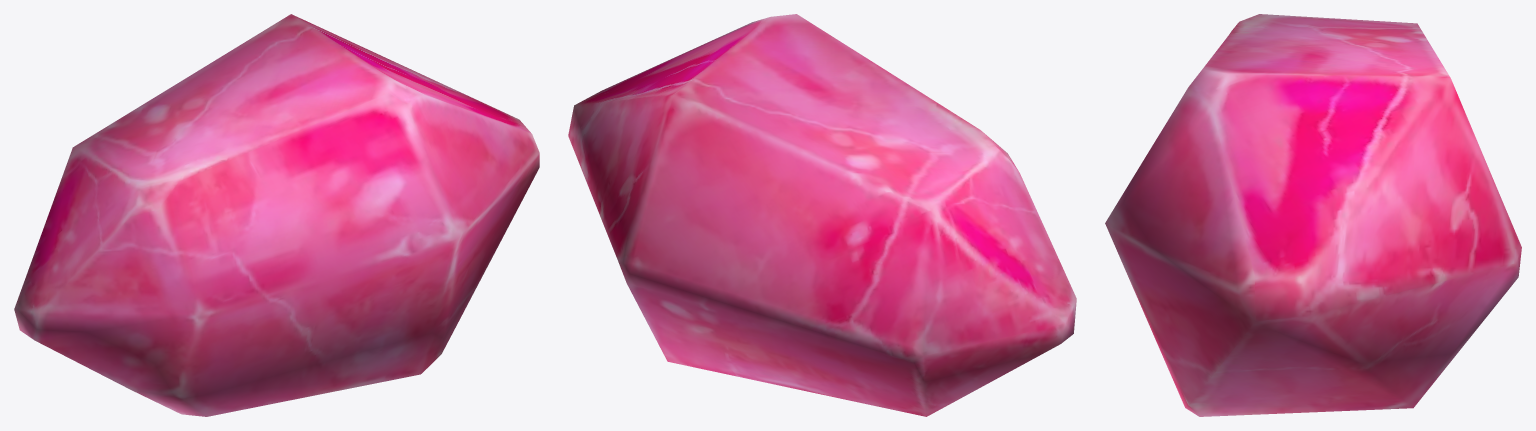
3 renders of one model, left to right at view 1: azimuth 30°, elevation 25°; view 2: azimuth 150°, elevation 25°; view 3: azimuth 270°, elevation 25°, orthographic. The views are drawn at different scales.
Parts seen in each view (by area): view 1: SM_Gemstone_Red_Topaz_01_LOD0; view 2: SM_Gemstone_Red_Topaz_01_LOD0; view 3: SM_Gemstone_Red_Topaz_01_LOD0.
Boxes of the visible parts, bbox=[...] form: SM_Gemstone_Red_Topaz_01_LOD0: bbox=[14, 14, 539, 416]; SM_Gemstone_Red_Topaz_01_LOD0: bbox=[568, 14, 1076, 416]; SM_Gemstone_Red_Topaz_01_LOD0: bbox=[1105, 14, 1521, 416].
Size of the model in its own units: 0.3544 by 0.1969 by 0.2251.
1 material, 1 textured.
